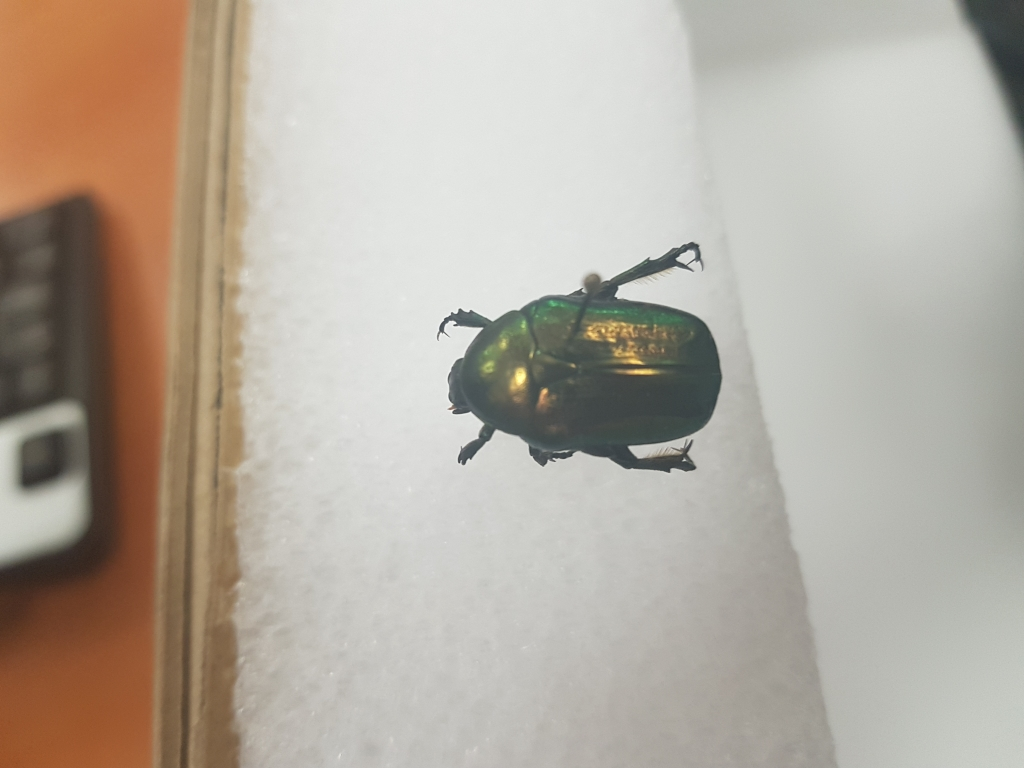Cetonia_aurata: (400, 226, 720, 481)
